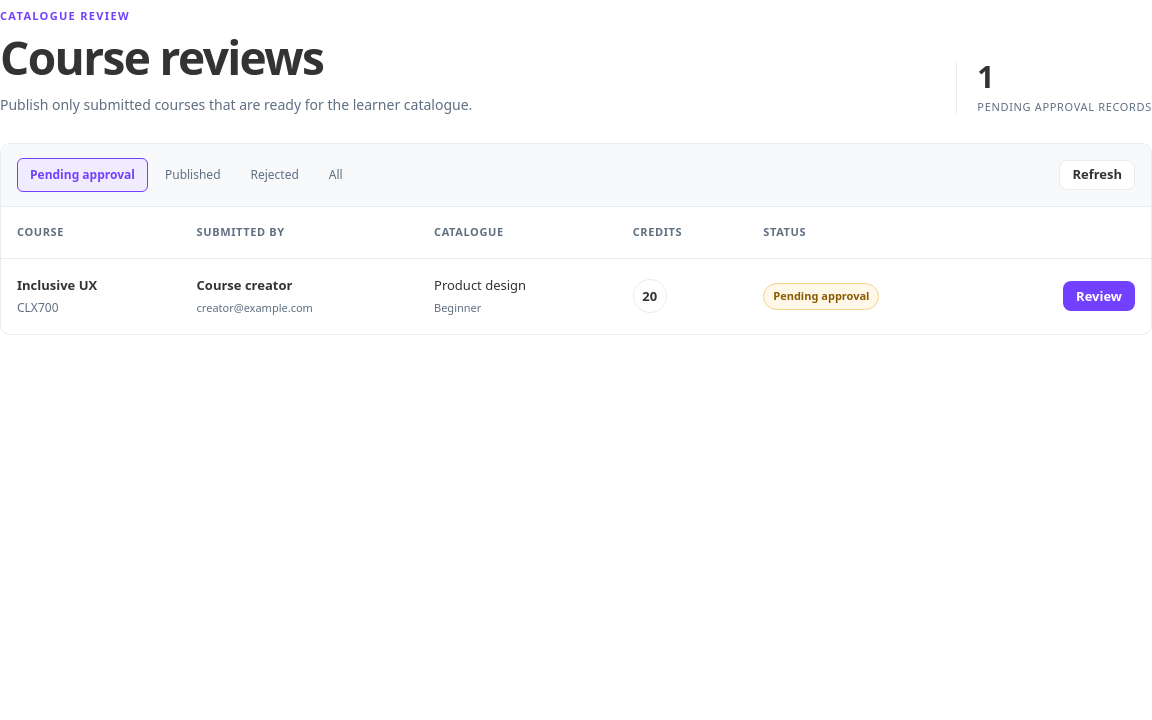
it: AdminCourseReviewsPage material and interest summary › shows interest names, material status counts and business versions before review
Click the button "Review": (1099, 296) [1063, 281, 1135, 311]
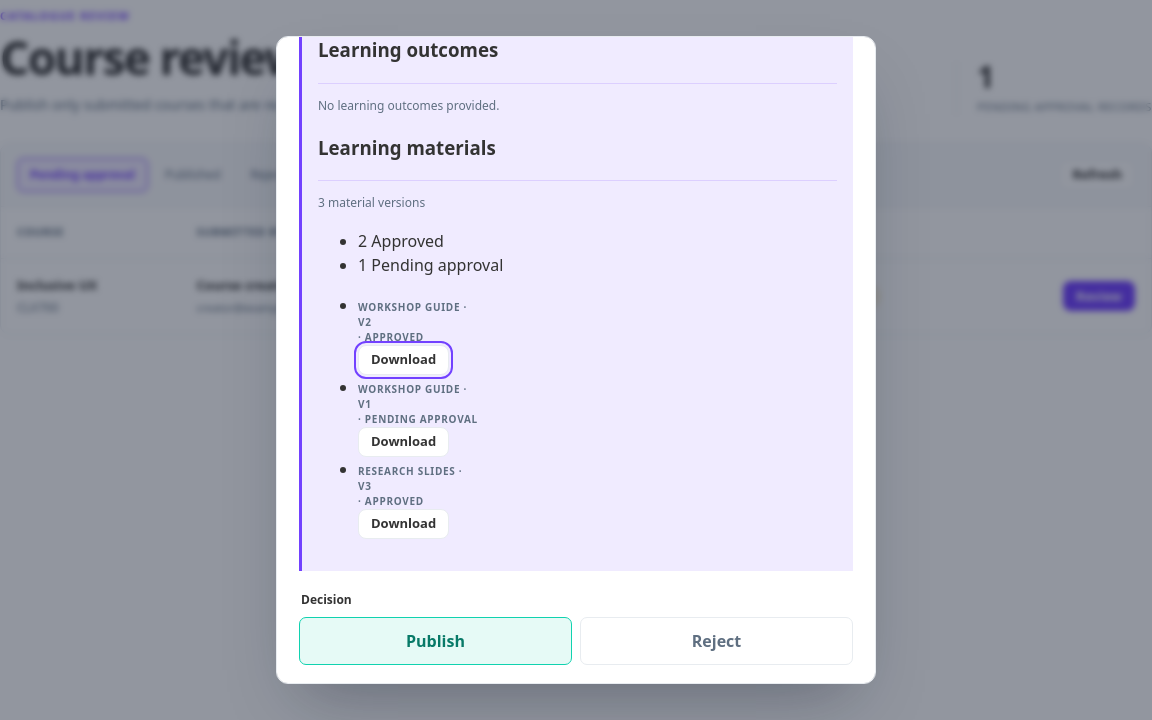
Now the text "3 material versions" is shown, box [318, 180, 837, 212]
Now the list item "2 Approved" is shown, box [358, 230, 444, 252]
Now the list item "1 Pending approval" is shown, box [358, 254, 503, 276]
